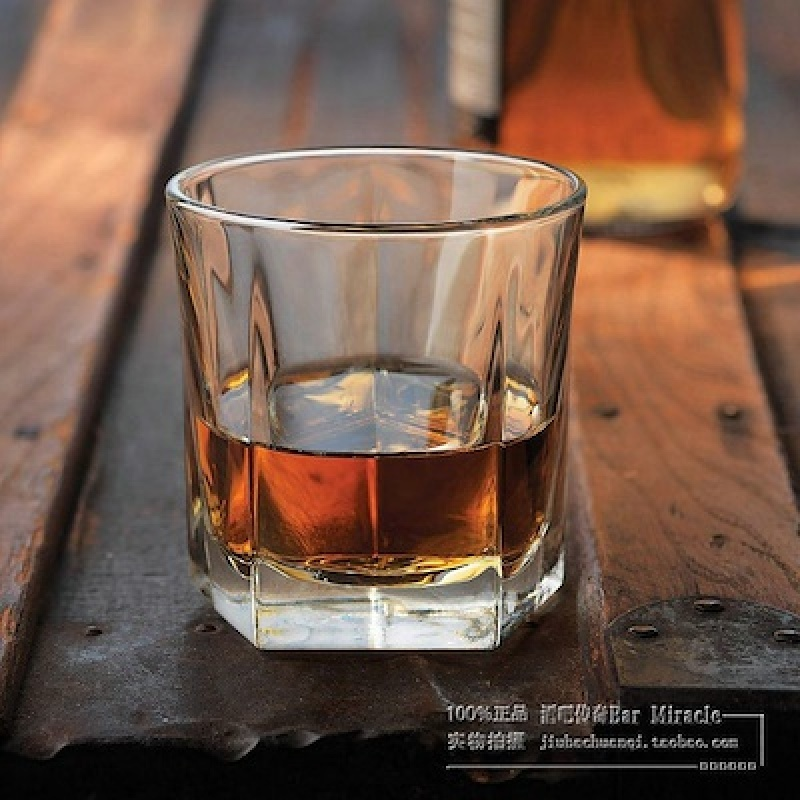whiskey: (165, 144, 572, 644)
